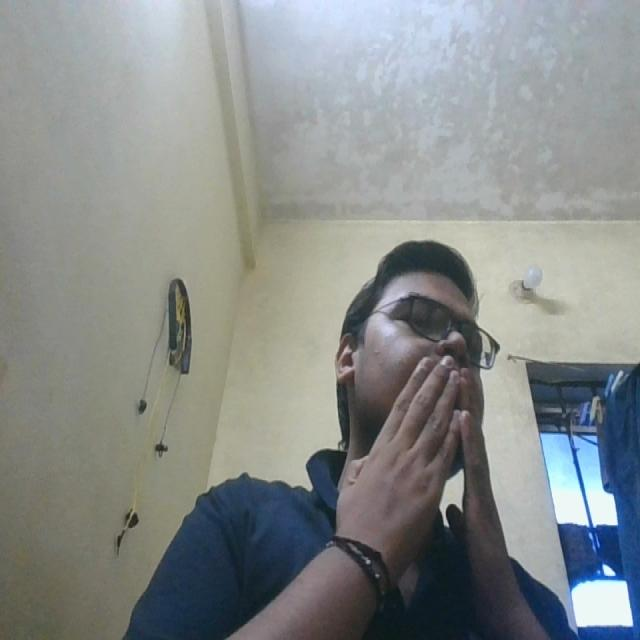Thanks: (348, 354, 509, 568)
